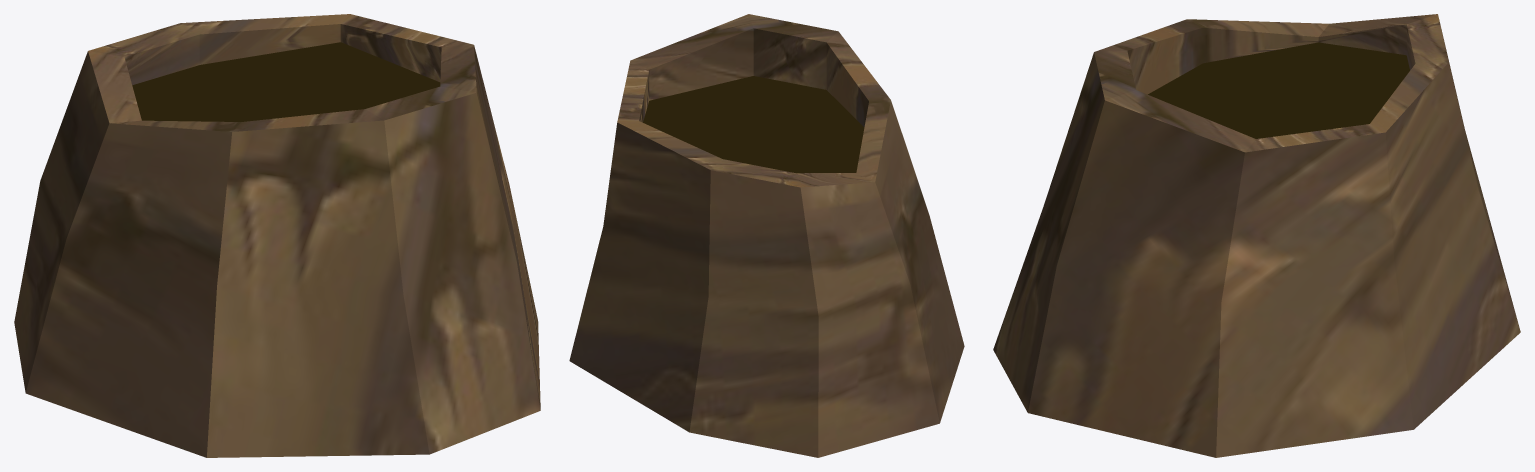
The model's file is TroncoCotocoB.fbx.
3 renders of one model, left to right at view 1: azimuth 30°, elevation 25°; view 2: azimuth 150°, elevation 25°; view 3: azimuth 270°, elevation 25°, orthographic. The views are drawn at different scales.
Parts seen in each view (by area): view 1: pCylinder1; view 2: pCylinder1; view 3: pCylinder1.
Boxes of the visible parts, x1=… form: pCylinder1: x1=14, y1=14, x2=540, y2=457; pCylinder1: x1=569, y1=14, x2=964, y2=457; pCylinder1: x1=993, y1=14, x2=1520, y2=457.
Size of the model in its own units: 6.27 by 4.11 by 6.27.
Materials: 2 (1 with a texture image).
